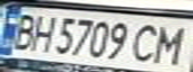0: (87, 17, 112, 60)
5: (51, 12, 78, 56)
7: (69, 16, 93, 58)
9: (106, 18, 136, 62)
B: (3, 10, 42, 51)
C: (127, 20, 166, 64)
H: (24, 11, 57, 53)
M: (148, 21, 193, 65)
